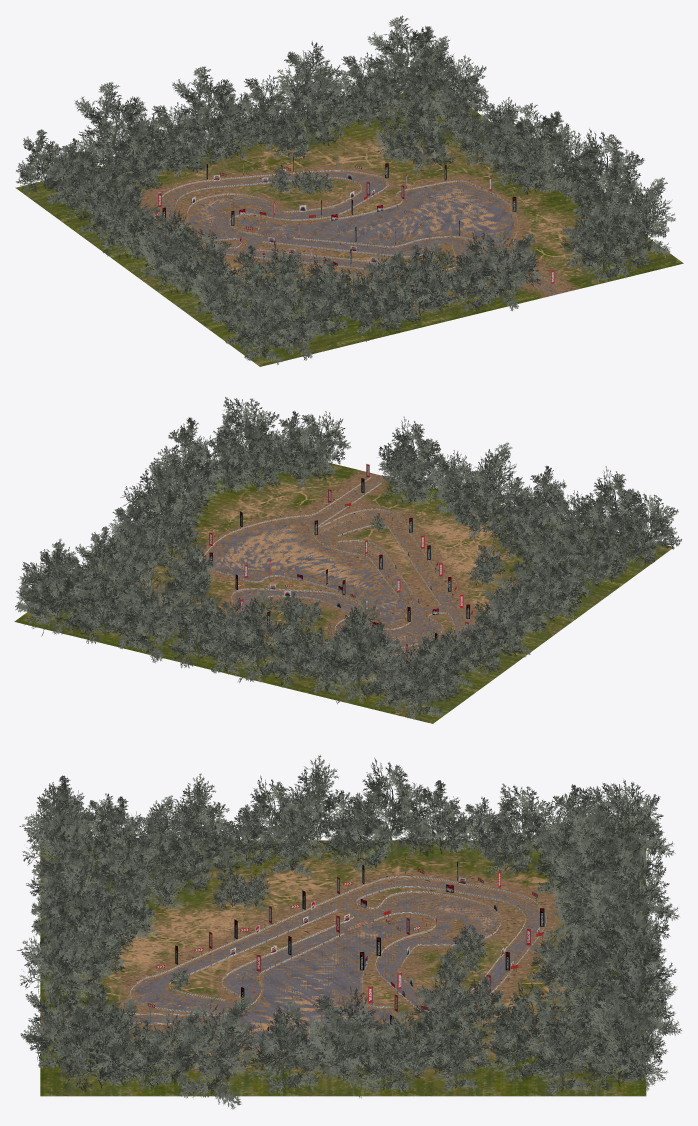
Rendered from track.glb.
3 views of the same model, one above another, from view 1: azimuth 30°, elevation 25°; view 2: azimuth 150°, elevation 25°; view 3: azimuth 270°, elevation 25° (orthographic). The views are drawn at different scales.
Parts seen in each view (by area): view 1: track; view 2: track; view 3: track.
Boxes of the visible parts, x1=… form: track: x1=15, y1=15, x2=683, y2=366; track: x1=14, y1=397, x2=681, y2=723; track: x1=17, y1=755, x2=681, y2=1109.
Size of the model in its own units: 1386 by 300 by 1388.
5 materials, 4 textured.
